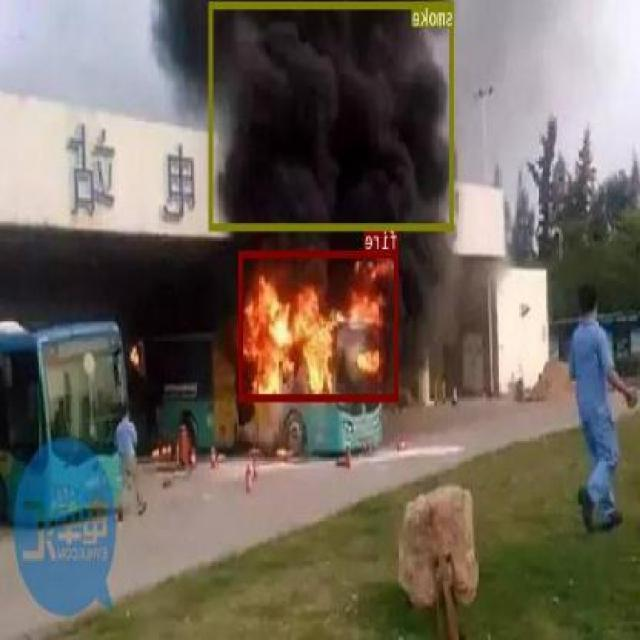Fire: (240, 250, 400, 401)
Smoke: (210, 2, 455, 230)
